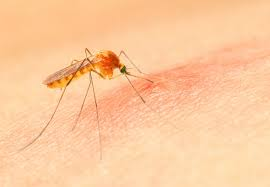mosquito: (25, 43, 157, 122)
